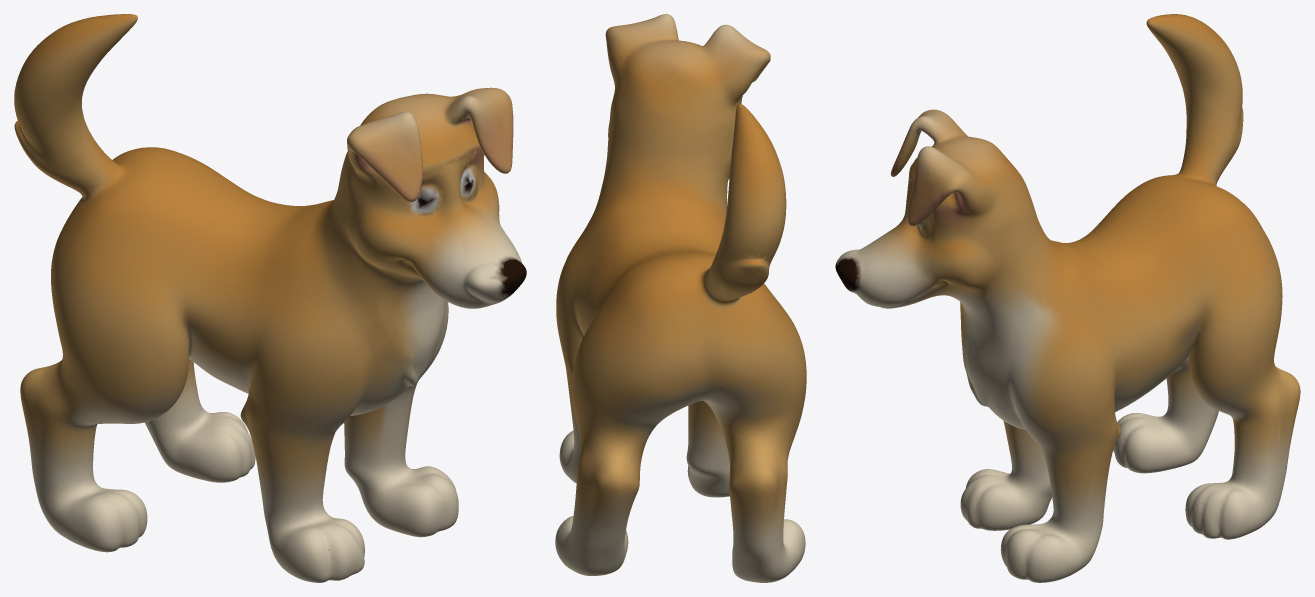
File: garden_dog.glb
3 views of the same model, side by side, from view 1: azimuth 30°, elevation 25°; view 2: azimuth 150°, elevation 25°; view 3: azimuth 270°, elevation 25° (orthographic). The views are drawn at different scales.
Visible parts, largest first — view 1: geometry_0; view 2: geometry_0; view 3: geometry_0.
Part boxes in pixels (x1,y1,x2,y2): geometry_0: [14, 14, 526, 582]; geometry_0: [555, 14, 806, 582]; geometry_0: [835, 14, 1300, 582].
Bounding box in the file's own units: 0.4521 × 0.65 × 0.6007.
